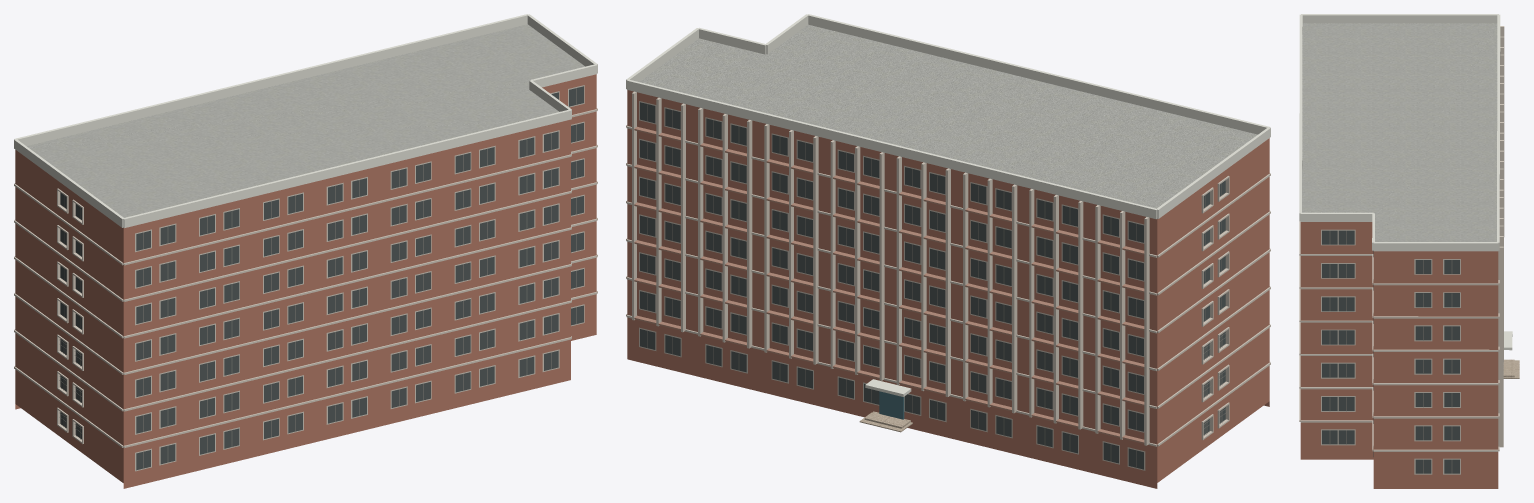
The model's file is chunk-dorm-way-759129520.glb.
3 renders of one model, left to right at view 1: azimuth 30°, elevation 25°; view 2: azimuth 150°, elevation 25°; view 3: azimuth 270°, elevation 25°, orthographic. The views are drawn at different scales.
Parts seen in each view (by area): view 1: chunk-dorm-way-759129520; view 2: chunk-dorm-way-759129520; view 3: chunk-dorm-way-759129520.
Part boxes in pixels (box(x1,y1,x2,y2)): chunk-dorm-way-759129520: box(14, 14, 597, 488); chunk-dorm-way-759129520: box(626, 14, 1270, 488); chunk-dorm-way-759129520: box(1299, 14, 1519, 488).
Bounding box in the file's own units: 48.72 × 24.4 × 19.8.
9 materials, 2 textured.
